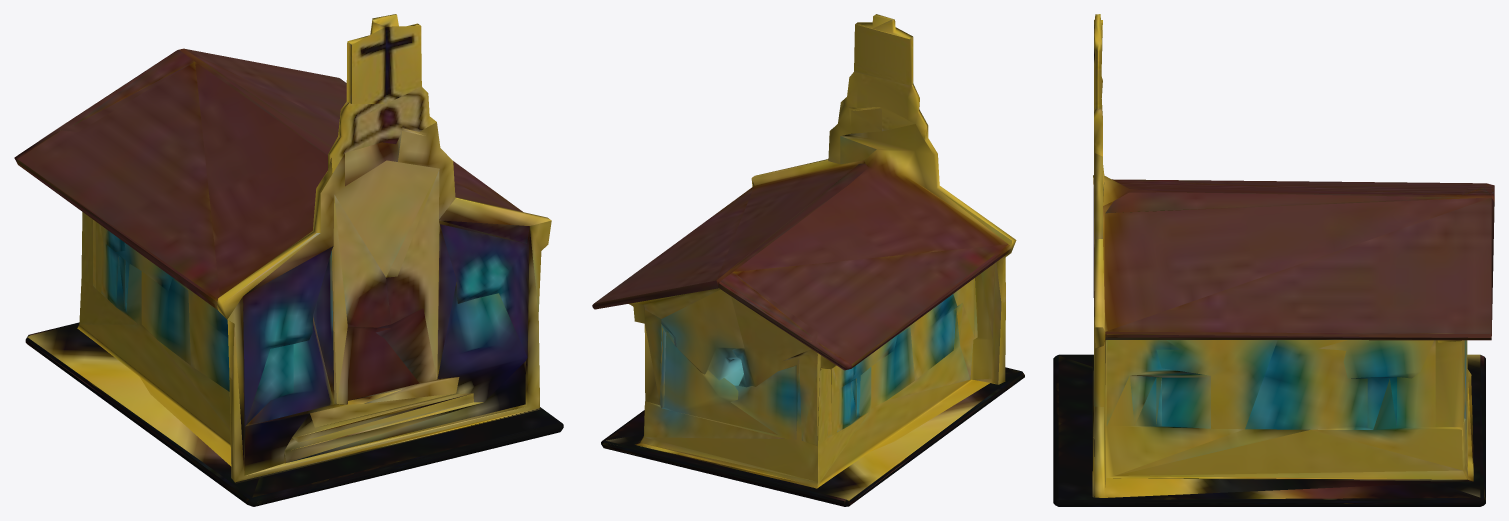
The model's file is pospam_natal_1_lod2.glb.
The picture shows the model from 3 angles, left to right: view 1: azimuth 30°, elevation 25°; view 2: azimuth 150°, elevation 25°; view 3: azimuth 270°, elevation 25°; orthographic projection. The views are drawn at different scales.
Visible parts, largest first — view 1: tripo_node_241ed5f1; view 2: tripo_node_241ed5f1; view 3: tripo_node_241ed5f1.
Boxes of the visible parts, left/top/right/bottom form: tripo_node_241ed5f1: left=14, top=14, right=563, bottom=506; tripo_node_241ed5f1: left=592, top=14, right=1024, bottom=506; tripo_node_241ed5f1: left=1053, top=14, right=1494, bottom=506.
Bounding box in the file's own units: 0.7924 × 1 × 0.9609.
Materials: 1 (1 with a texture image).
